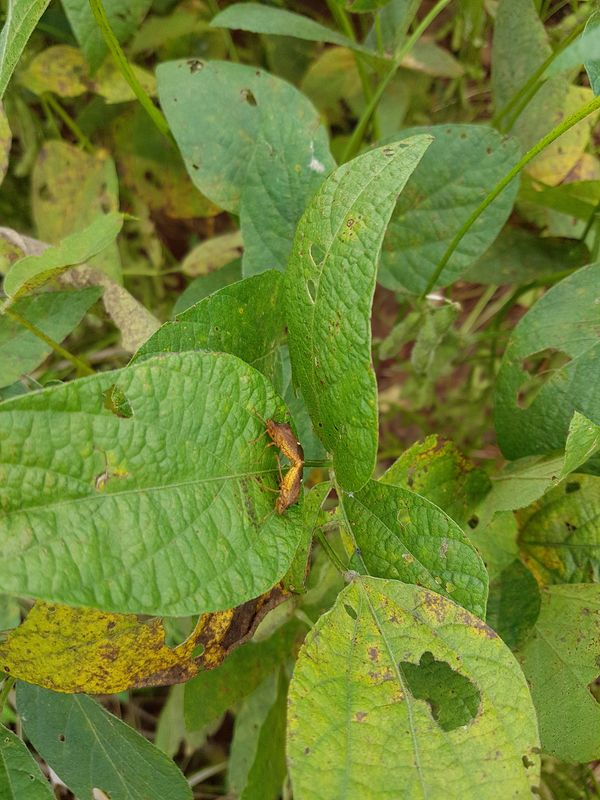Euschistus_heros_adulto: (253, 464, 320, 530), (247, 408, 312, 465)
